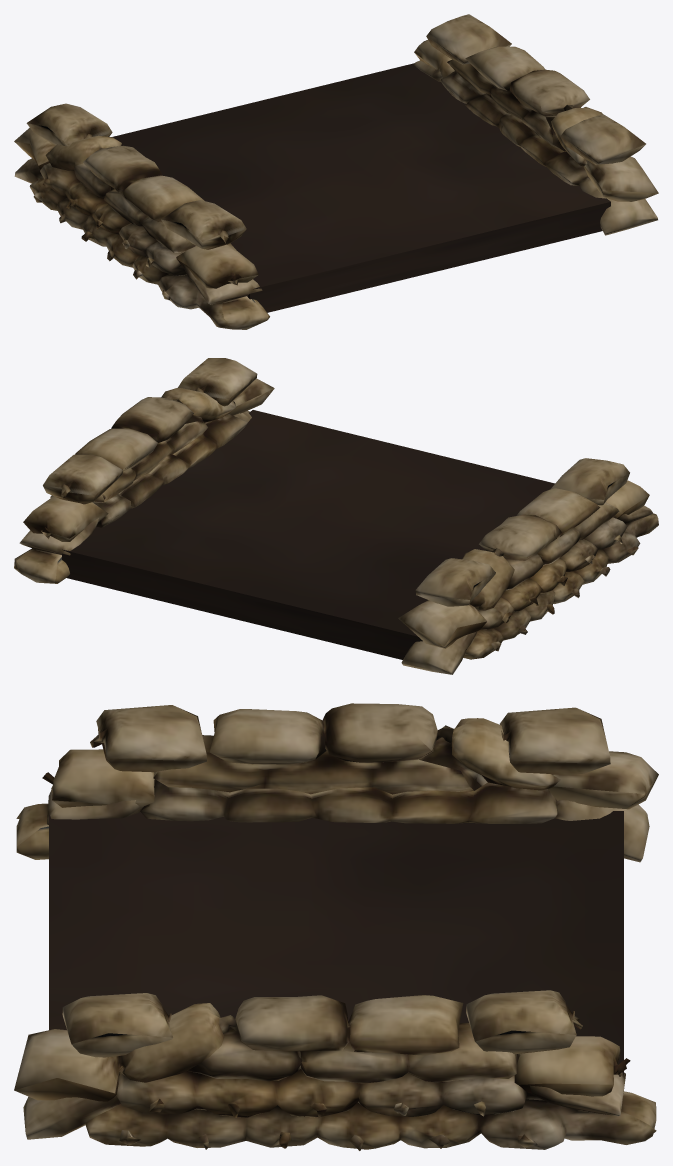
The picture shows the model from 3 angles, top to bottom: view 1: azimuth 30°, elevation 25°; view 2: azimuth 150°, elevation 25°; view 3: azimuth 270°, elevation 25°; orthographic projection. The views are drawn at different scales.
Visible parts, largest first — view 1: Cube_Cube.000, sandbags_01.009, sandbags_01.008; view 2: Cube_Cube.000, sandbags_01.009, sandbags_01.008; view 3: Cube_Cube.000, sandbags_01.008, sandbags_01.009.
Boxes of the visible parts, x1=… form: Cube_Cube.000: x1=111, y1=63, x2=610, y2=312; sandbags_01.009: x1=14, y1=103, x2=269, y2=329; sandbags_01.008: x1=413, y1=14, x2=658, y2=235; Cube_Cube.000: x1=62, y1=410, x2=554, y2=659; sandbags_01.009: x1=398, y1=458, x2=658, y2=674; sandbags_01.008: x1=14, y1=358, x2=274, y2=583; Cube_Cube.000: x1=49, y1=811, x2=623, y2=1075; sandbags_01.008: x1=14, y1=990, x2=656, y2=1150; sandbags_01.009: x1=16, y1=703, x2=658, y2=862.
Bounding box in the file's own units: 6.34 × 1.15 × 4.94.
